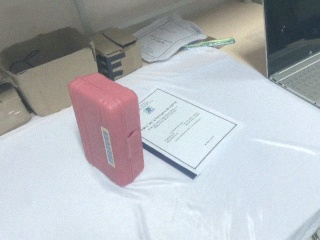box: (66, 71, 146, 188), (1, 27, 97, 116), (92, 28, 143, 81)
